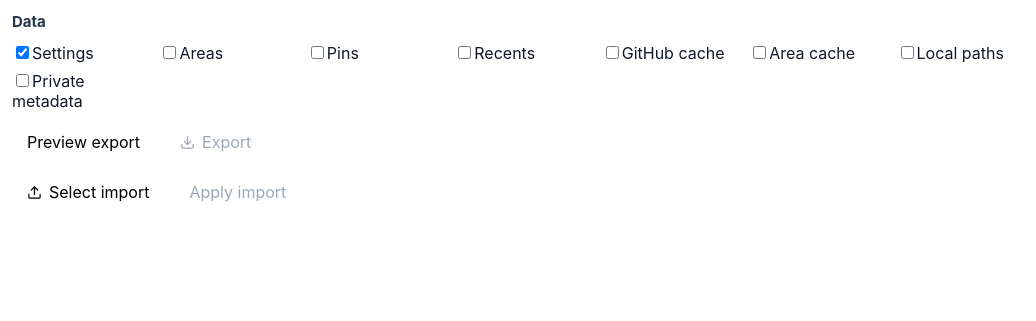
Test: DataSyncPanel › previews and applies imports after native file selection
Click the button "Select import" at [88, 192], box top-left (12, 173), bottom-right (164, 211)
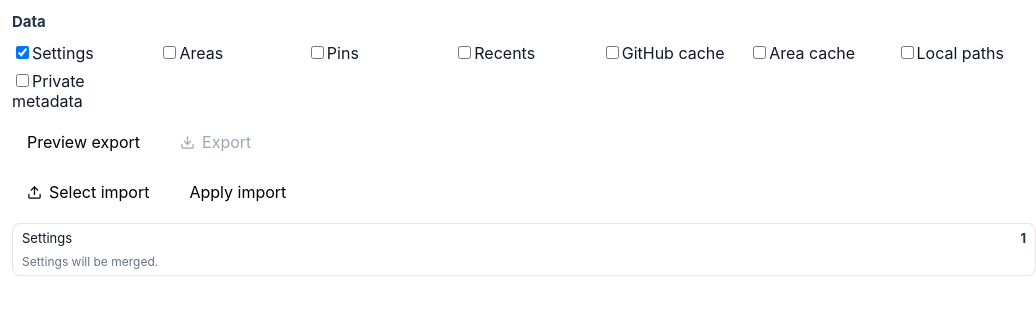
Now the element named "Import preview" is shown, box top-left (12, 223), bottom-right (1035, 276)
Click the button "Apply import" at [238, 192], box top-left (174, 173), bottom-right (301, 211)
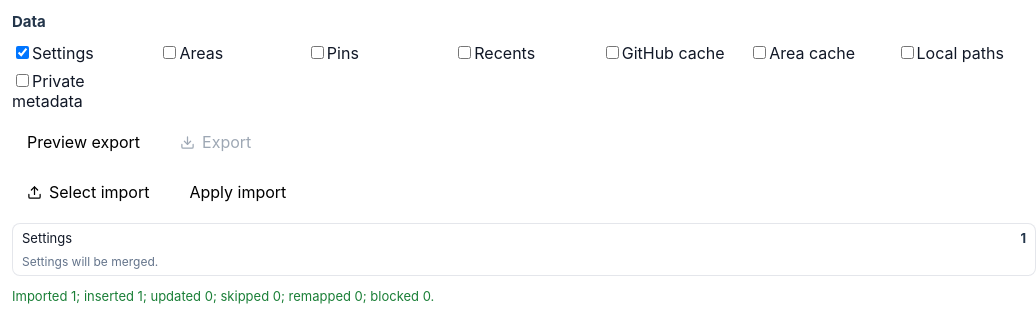
Now the text "Imported 1; inserted 1; updated 0; skipped 0; remapped 0; blocked 0." is shown, box top-left (12, 288), bottom-right (434, 304)
